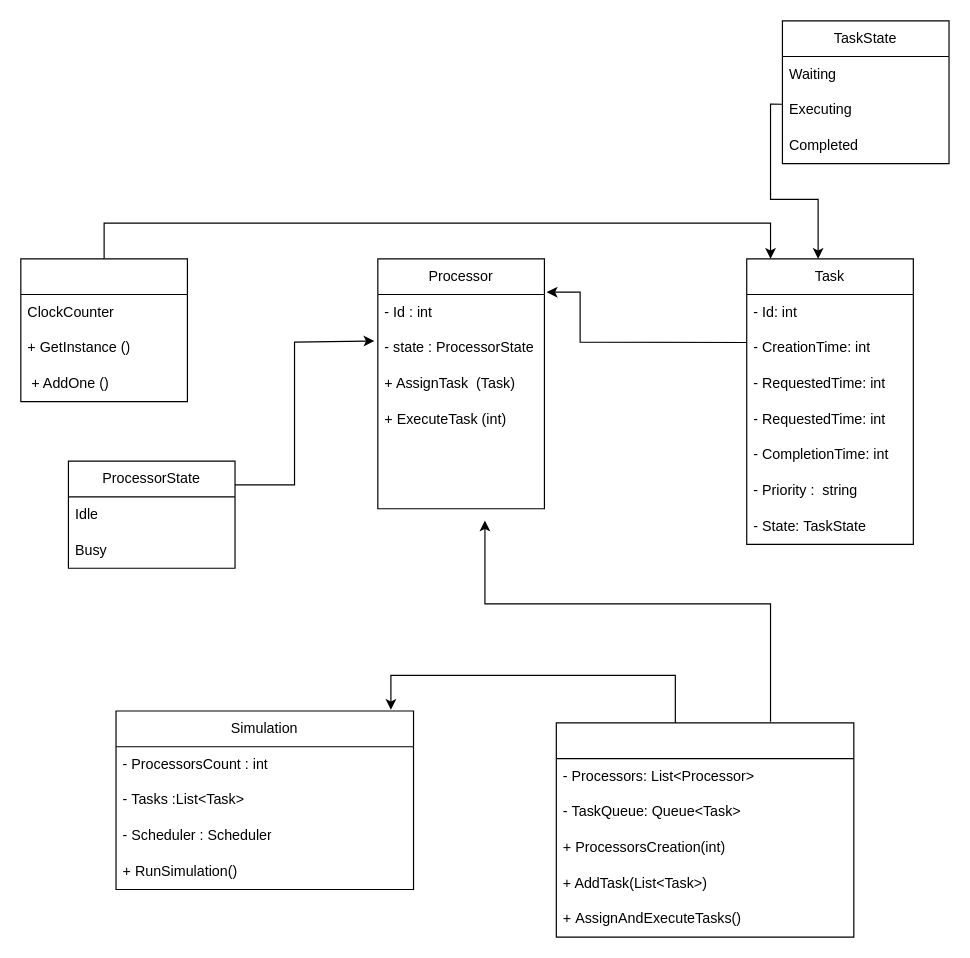
This 970x958 diagram has some shape labels left out. The shapes that lost their labels are listed below. From the top down, each one's box as (x1, y1, x2, y2) in pixels, then its label:
(20, 258, 187, 402): clockCycle
(555, 722, 854, 937): Scheduler
